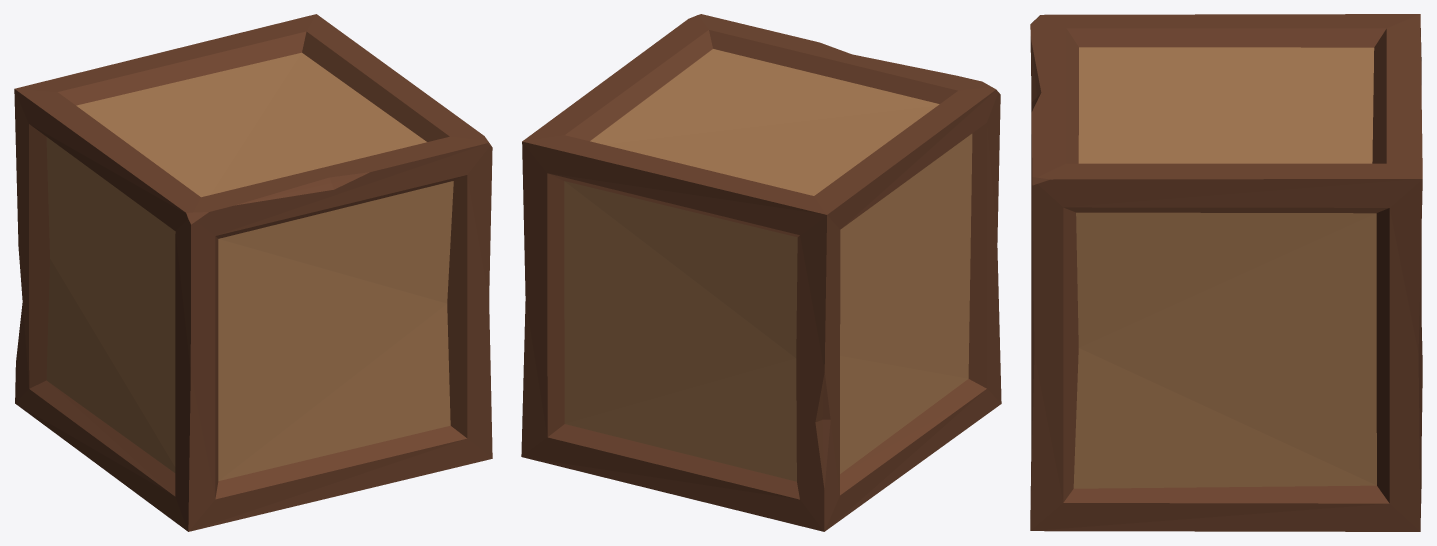
3 renders of one model, left to right at view 1: azimuth 30°, elevation 25°; view 2: azimuth 150°, elevation 25°; view 3: azimuth 270°, elevation 25°, orthographic. The views are drawn at different scales.
Visible parts, largest first — view 1: Box_01; view 2: Box_01; view 3: Box_01.
Part boxes in pixels (bbox=[...]): Box_01: bbox=[14, 14, 492, 531]; Box_01: bbox=[521, 14, 1001, 531]; Box_01: bbox=[1030, 14, 1422, 531].
Bounding box in the file's own units: 94.38 × 93.95 × 94.4.
